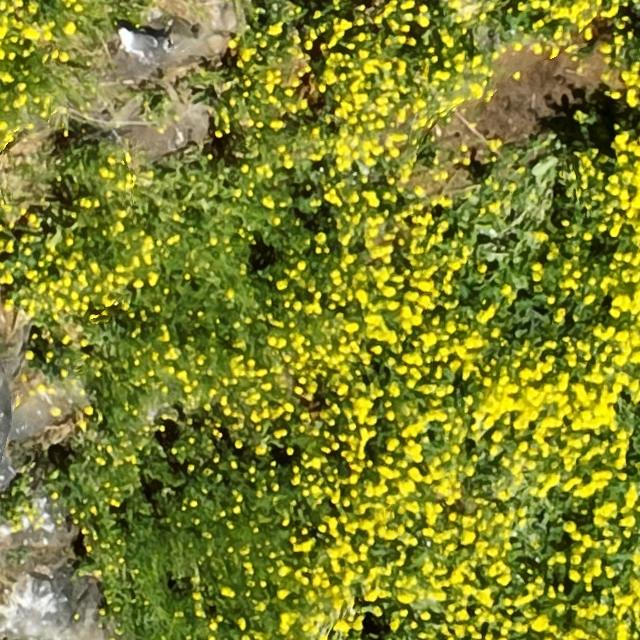umineko: (121, 30, 156, 51)
